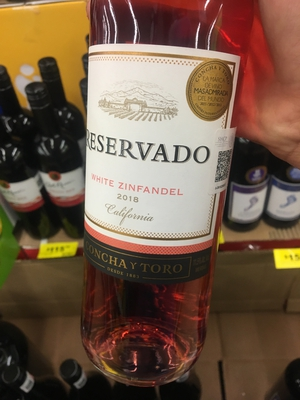reservado white zinfandel: (76, 3, 245, 365)
